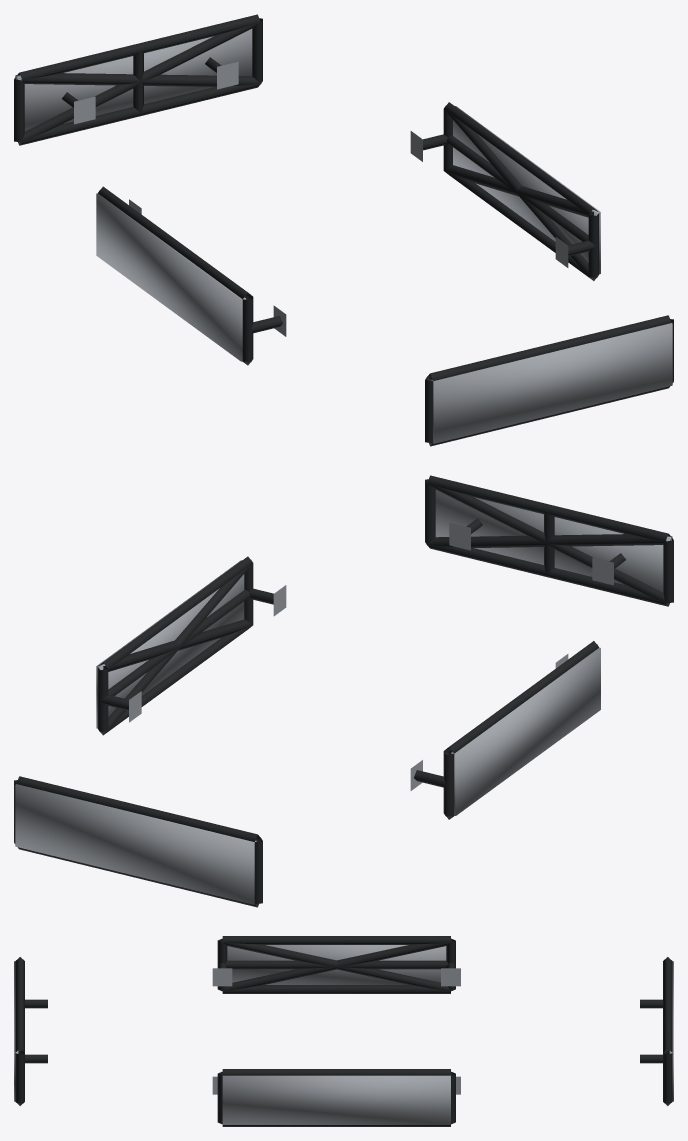
Rendered from mizuchi_fagulha_protecao.glb.
The picture shows the model from 3 angles, top to bottom: view 1: azimuth 30°, elevation 25°; view 2: azimuth 150°, elevation 25°; view 3: azimuth 270°, elevation 25°; orthographic projection. The views are drawn at different scales.
Visible parts, largest first — view 1: Protection_front_Level3_Details, Protection_left_Level3_Details, Protection_rear_Level1_Details, Protection_rear_Level3_Details, Protection_right_Level1_Details, Protection_rear_Level2_Details, Protection_right_Level2_Details, Protection_right_Level3_Details, Protection_front_Level1_Details, Protection_left_Level1_Details; view 2: Protection_rear_Level3_Details, Protection_left_Level3_Details, Protection_front_Level1_Details, Protection_front_Level3_Details, Protection_right_Level1_Details, Protection_front_Level2_Details, Protection_right_Level2_Details, Protection_right_Level3_Details, Protection_rear_Level1_Details, Protection_left_Level1_Details; view 3: Protection_right_Level3_Details, Protection_left_Level2_Details, Protection_left_Level1_Details, Protection_left_Level3_Details, Protection_right_Level1_Details, Protection_rear_Level1_Details, Protection_front_Level1_Details.
Part boxes in pixels (x1,y1,x2,y2): Protection_front_Level3_Details: [431, 323, 672, 443]; Protection_left_Level3_Details: [96, 193, 246, 361]; Protection_rear_Level1_Details: [14, 14, 262, 145]; Protection_rear_Level3_Details: [15, 29, 252, 131]; Protection_right_Level1_Details: [410, 102, 599, 280]; Protection_rear_Level2_Details: [16, 22, 260, 144]; Protection_right_Level2_Details: [444, 109, 598, 280]; Protection_right_Level3_Details: [453, 106, 600, 274]; Protection_front_Level1_Details: [425, 315, 673, 446]; Protection_left_Level1_Details: [98, 186, 286, 365]; Protection_rear_Level3_Details: [15, 784, 256, 904]; Protection_left_Level3_Details: [451, 647, 600, 815]; Protection_front_Level1_Details: [425, 475, 673, 606]; Protection_front_Level3_Details: [435, 490, 672, 592]; Protection_right_Level1_Details: [97, 556, 286, 735]; Protection_front_Level2_Details: [427, 483, 671, 605]; Protection_right_Level2_Details: [98, 564, 252, 734]; Protection_right_Level3_Details: [96, 560, 244, 728]; Protection_rear_Level1_Details: [14, 776, 262, 907]; Protection_left_Level1_Details: [410, 641, 598, 819]; Protection_right_Level3_Details: [222, 1075, 450, 1124]; Protection_left_Level2_Details: [222, 939, 451, 991]; Protection_left_Level1_Details: [212, 936, 460, 993]; Protection_left_Level3_Details: [227, 945, 446, 984]; Protection_right_Level1_Details: [212, 1069, 460, 1126]; Protection_rear_Level1_Details: [640, 957, 672, 1105]; Protection_front_Level1_Details: [15, 957, 47, 1105].
Size of the model in its own units: 1.82 by 0.354 by 3.67.
Materials: 1 (1 with a texture image).
